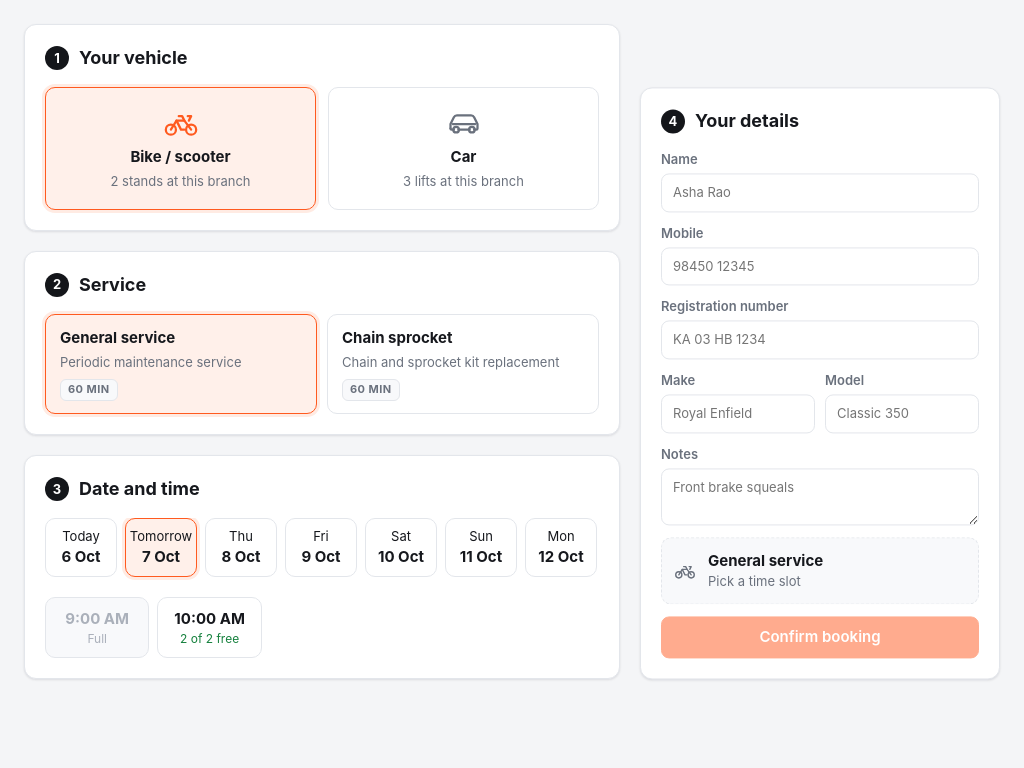
Test: BookPage › only offers services that apply to the chosen vehicle
Check: the button "Chain sprocket Chain and sprocket kit replacement 60 min" is shown, box [327, 314, 599, 414]
Check: the button "Wheel alignment" is not shown
Click the button "Car 3 lifts at this branch" at (464, 148), box [328, 87, 599, 210]
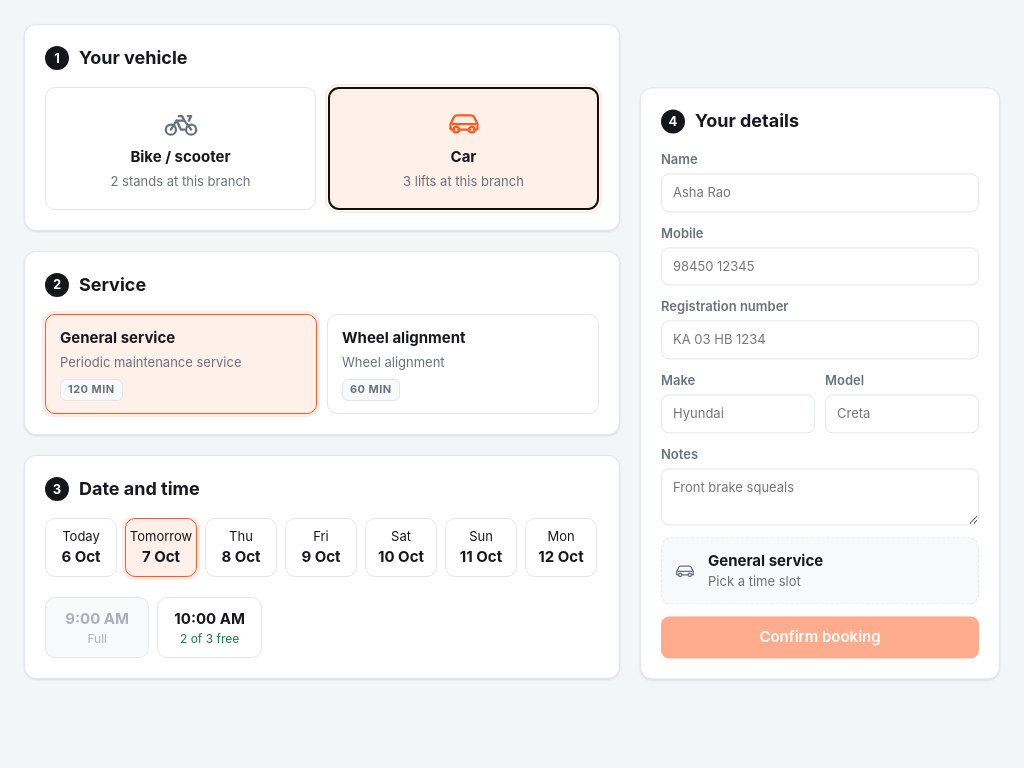
Check: the button "Wheel alignment Wheel alignment 60 min" is shown, box [327, 314, 599, 414]
Check: the button "Chain sprocket" is gone
